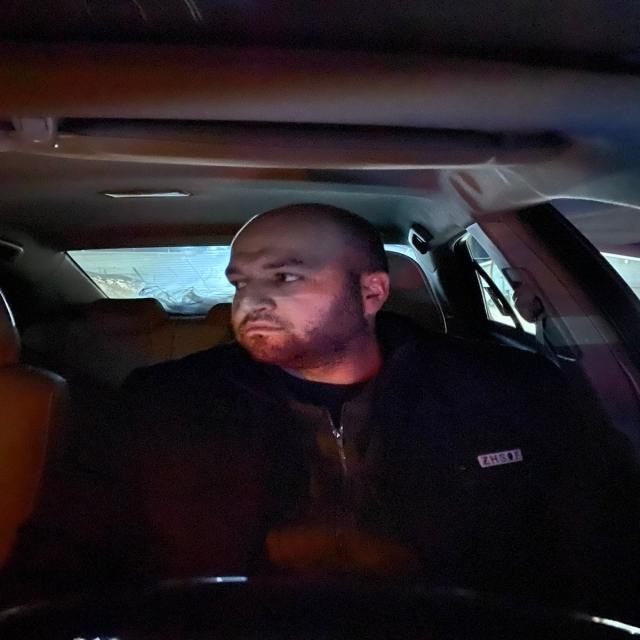person: (212, 212, 390, 367)
